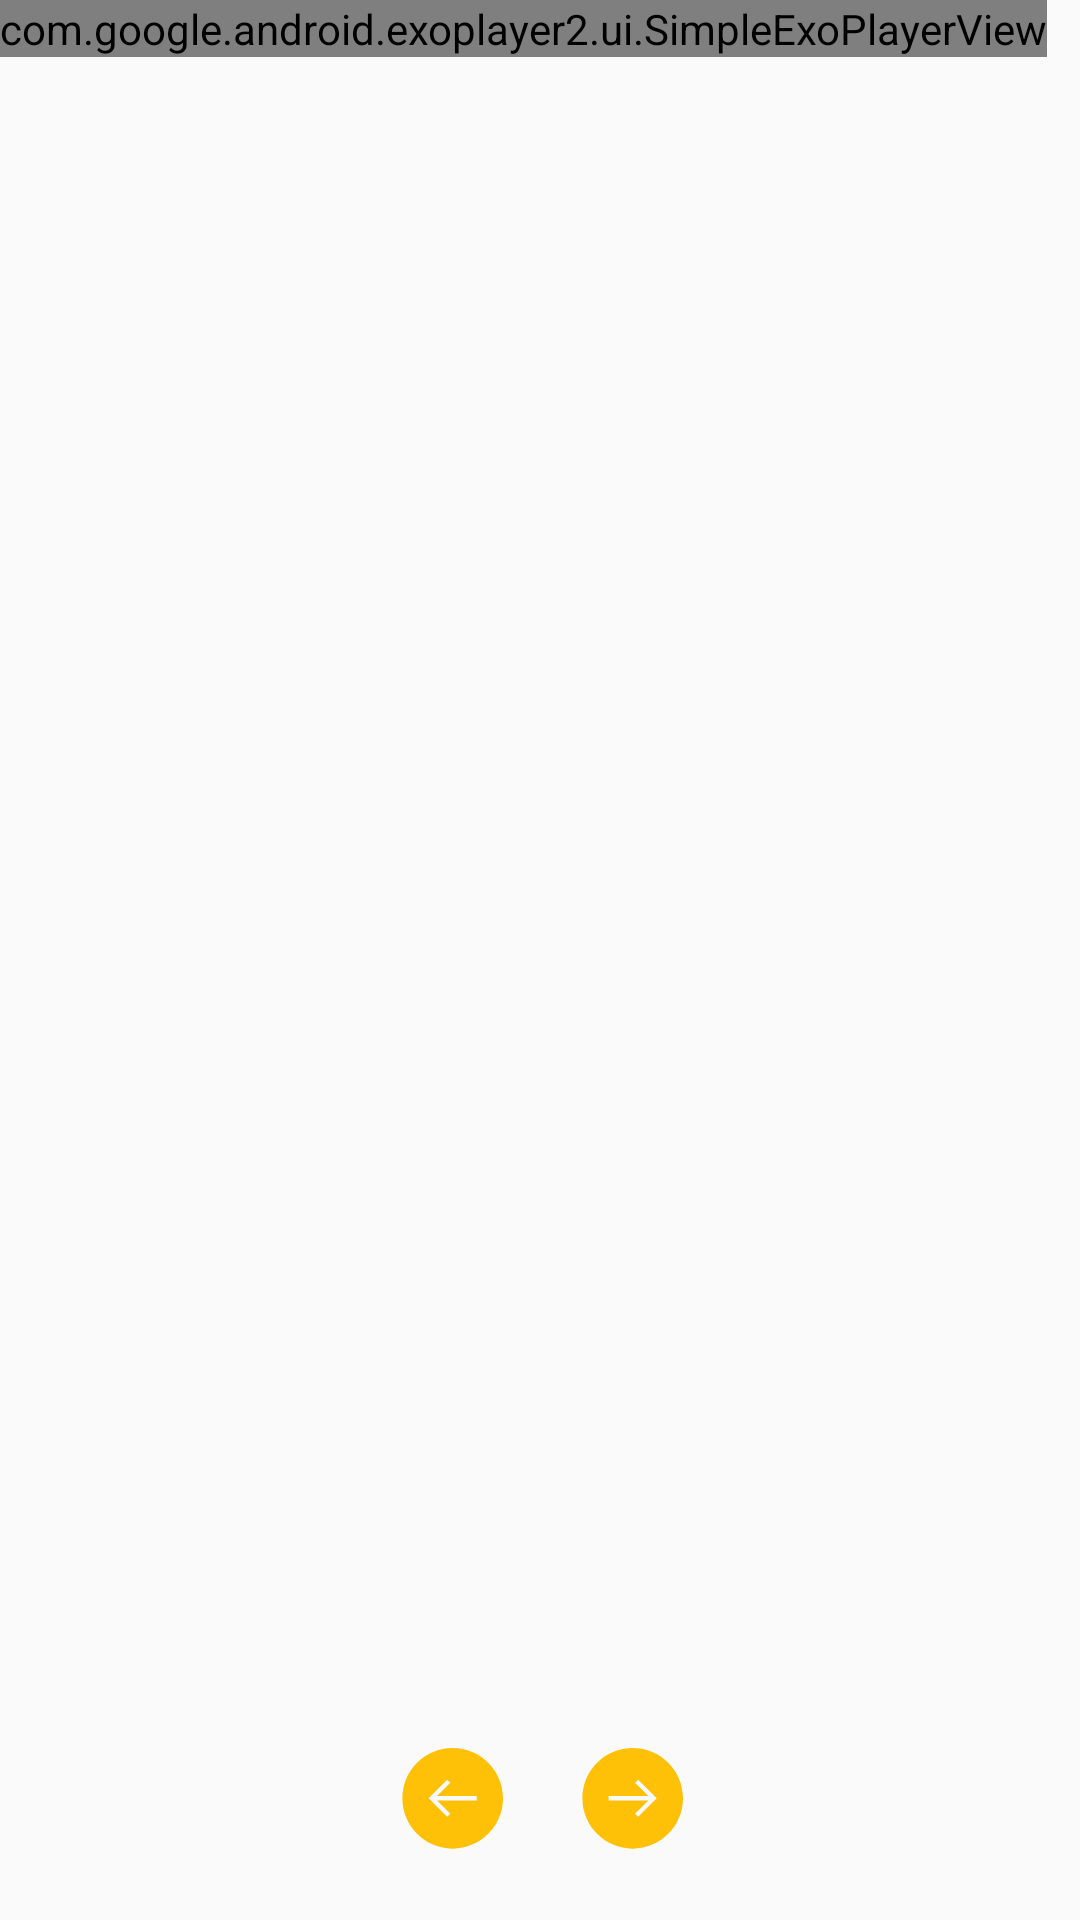

Icons on this 1080w x 1920h Android screen, each with its box as (left=x1, top=y1, right=x2, bottom=y2):
next: (left=582, top=1748, right=683, bottom=1849)
previous: (left=402, top=1748, right=503, bottom=1849)
